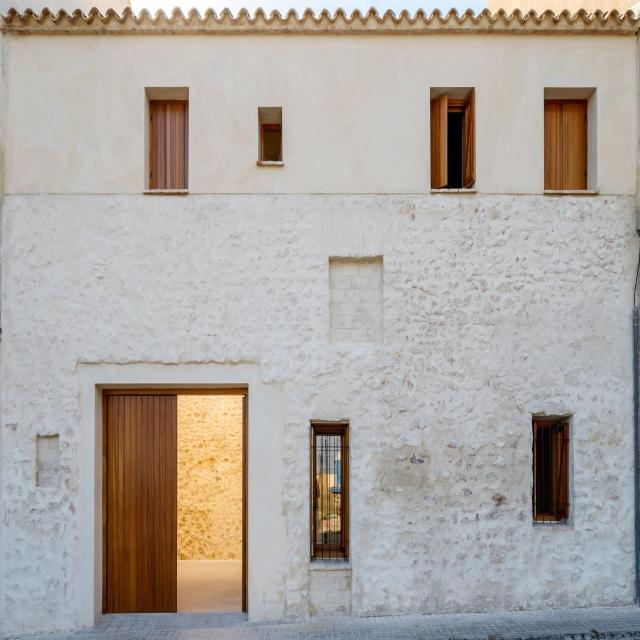door: (106, 390, 250, 611)
window: (310, 419, 348, 564), (544, 98, 592, 195), (429, 102, 470, 192), (150, 96, 189, 190), (537, 424, 570, 524), (259, 123, 283, 164)
